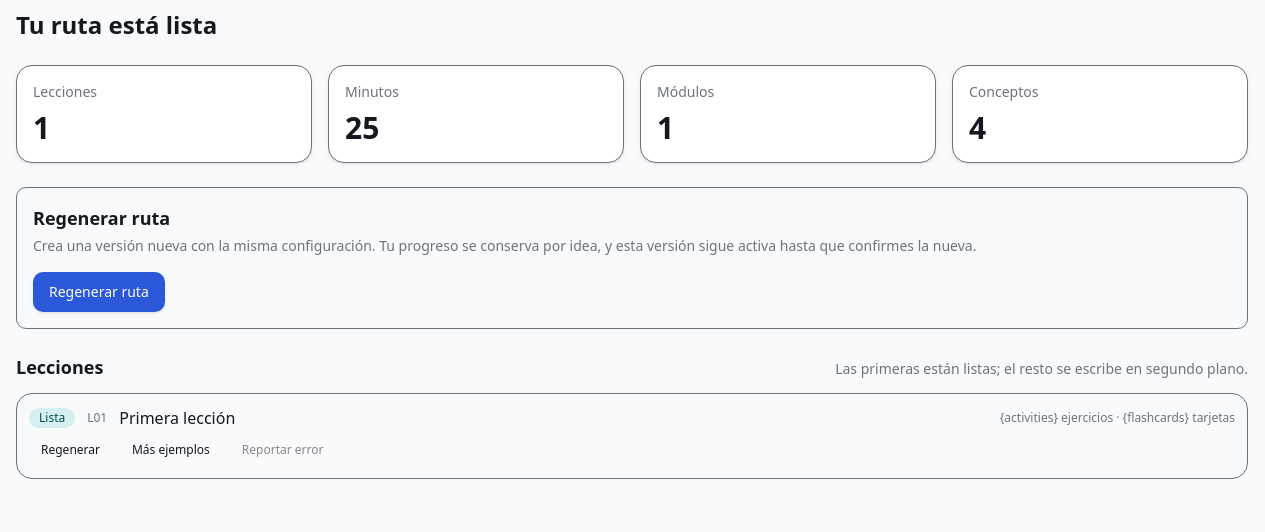
Test: CompletionPage › shows an alert and does not open a version when regeneration wrote none
Click the button with test id "completion-regenerate".
click(99, 292)  # box [33, 272, 165, 312]
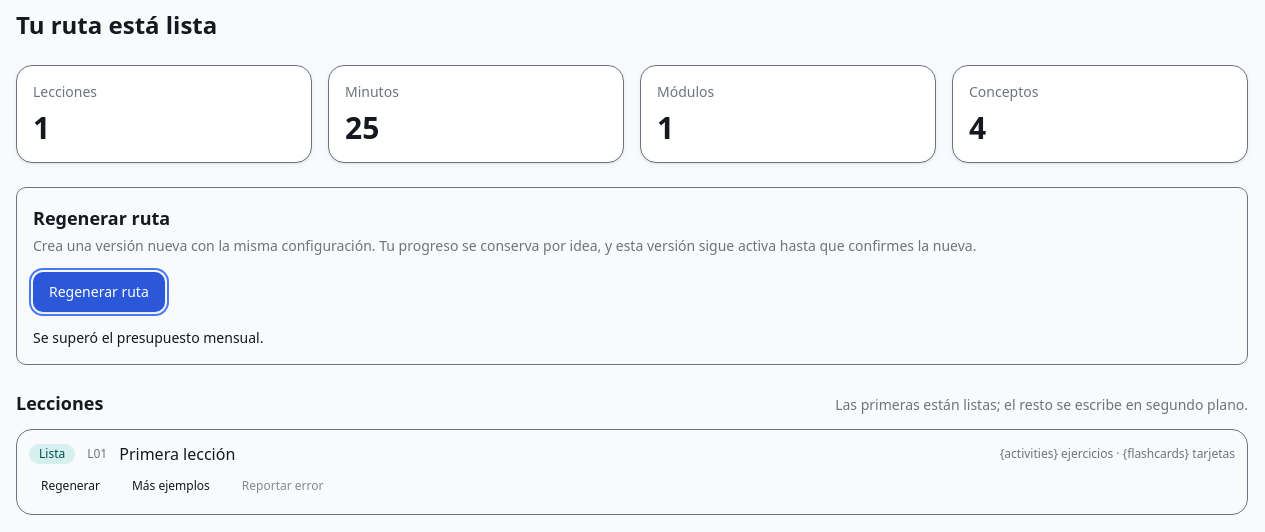
Result: the message reads "Se superó el presupuesto mensual." at [33, 328, 264, 347]
